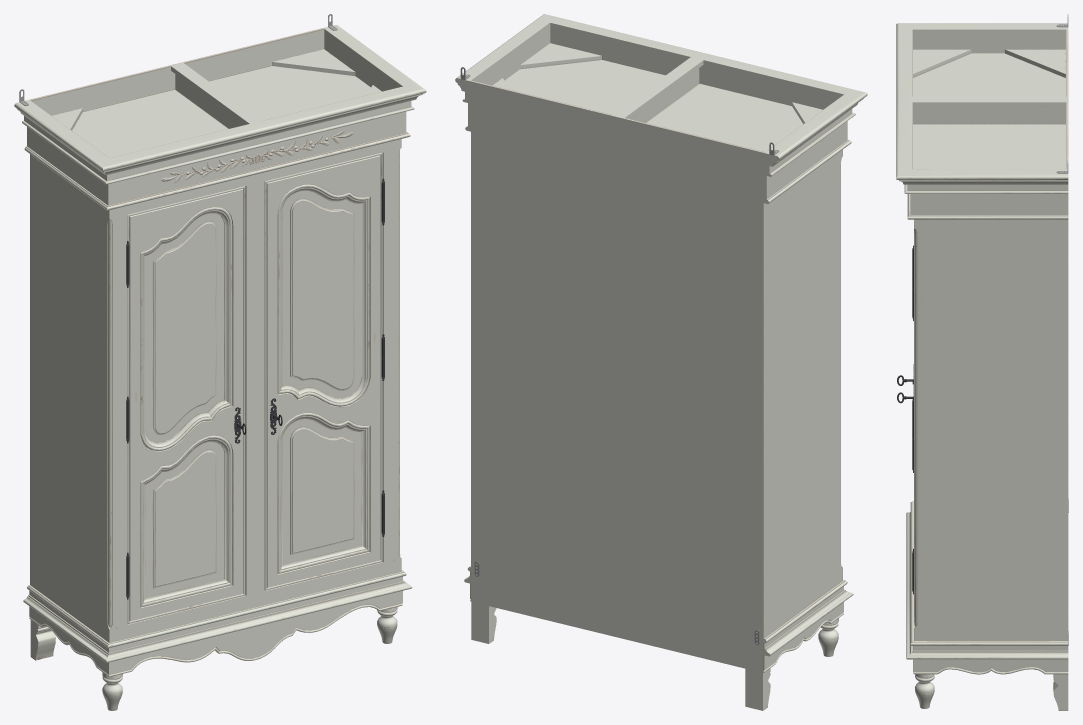
File: example143.gltf
3 renders of one model, left to right at view 1: azimuth 30°, elevation 25°; view 2: azimuth 150°, elevation 25°; view 3: azimuth 270°, elevation 25°, orthographic. The views are drawn at different scales.
Size of the model in its own units: 125 by 210 by 59.25.
Materials: 3 (2 with a texture image).
